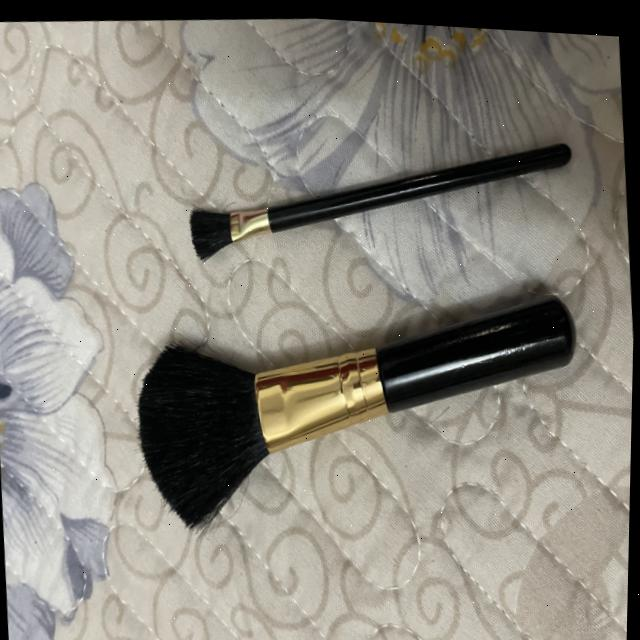brush: (115, 241, 592, 562), (166, 93, 603, 293)
